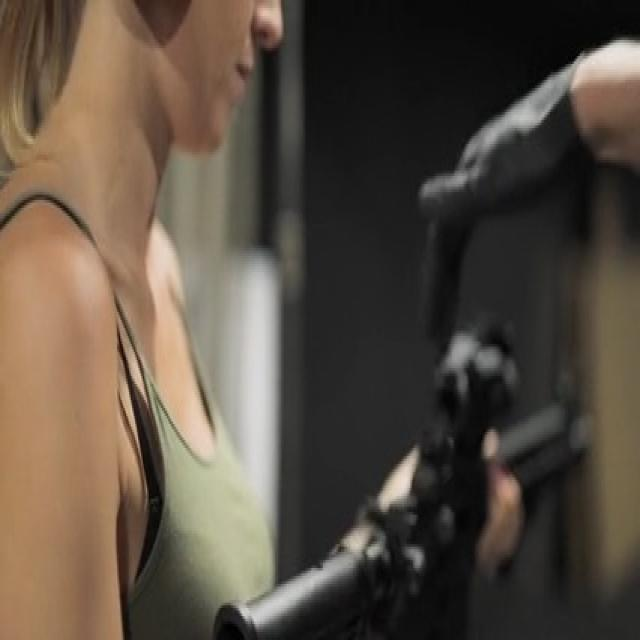Gun_Holder: (189, 294, 640, 638)
Person: (0, 0, 302, 640)
